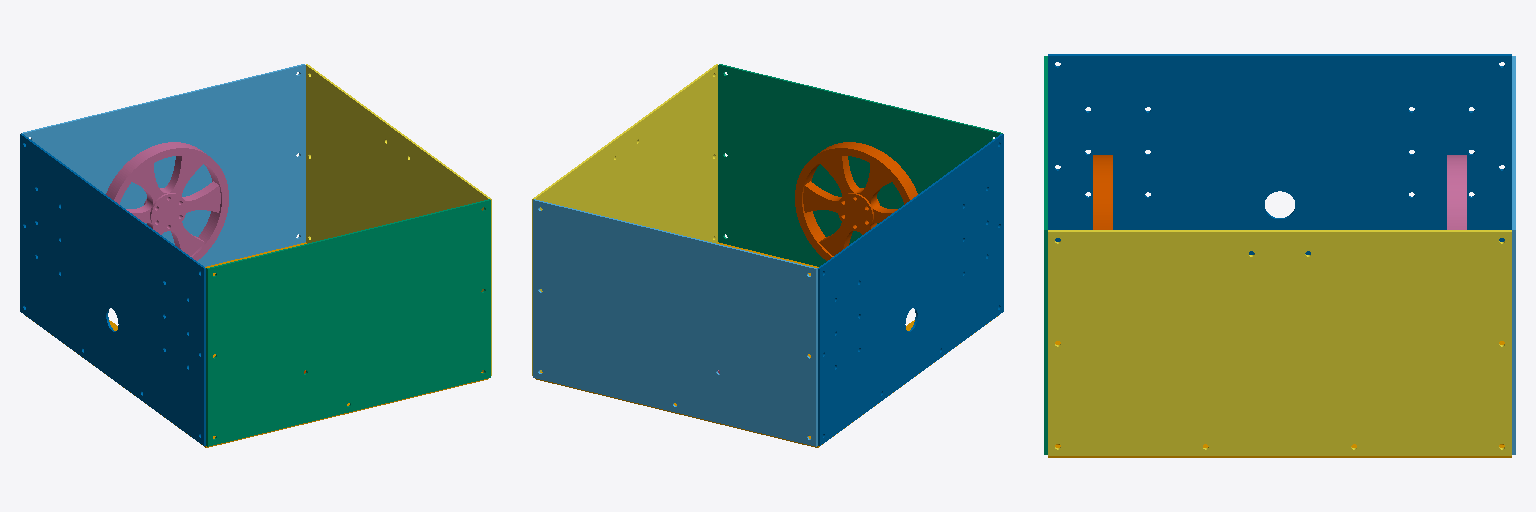
The robot description file, URDF, robot "serbby":
<?xml version="1.0"?>
<robot name="serbby">

    <!-- base links -->
    <link name="base_link">
        <visual>
            <geometry>
                <mesh filename="package://serbby_description/meshes/bottom.stl" scale="0.001 0.001 0.001"/>
            </geometry>
        </visual>
    </link>

    <link name="base_left_side">
        <visual>
            <geometry>
                <mesh filename="package://serbby_description/meshes/left_side.stl" scale="0.001 0.001 0.001"/>
            </geometry>
        </visual>
    </link>

    <link name="base_right_side">
        <visual>
            <geometry>
                <mesh filename="package://serbby_description/meshes/right_side.stl" scale="0.001 0.001 0.001"/>
            </geometry>
        </visual>
    </link>

    <link name="base_front_side">
        <visual>
            <geometry>
                <mesh filename="package://serbby_description/meshes/front_side.stl" scale="0.001 0.001 0.001"/>
            </geometry>
        </visual>
    </link>

    <link name="base_back_side">
        <visual>
            <geometry>
                <mesh filename="package://serbby_description/meshes/back_side.stl" scale="0.001 0.001 0.001"/>
            </geometry>
        </visual>
    </link>
    <!-- base links -->
    <!-- base -->
    <joint name="base_link_to_base_left_side" type="fixed">
        <origin rpy="0 0 0" xyz="0 0 0" />
        <parent link="base_link" />
        <child link="base_left_side" />
    </joint>

    <joint name="base_link_to_base_right_side" type="fixed">
        <origin rpy="0 0 0" xyz="0 0 0" />
        <parent link="base_link" />
        <child link="base_right_side" />
    </joint>

    <joint name="base_link_to_base_front_side" type="fixed">
        <origin rpy="0 0 0" xyz="0 0 0" />
        <parent link="base_link" />
        <child link="base_front_side" />
    </joint>

    <joint name="base_link_to_base_back_side" type="fixed">
        <origin rpy="0 0 0" xyz="0 0 0" />
        <parent link="base_link" />
        <child link="base_back_side" />
    </joint>

    <!-- base -->

    <!-- movable links-->
    <link name="right_wheel">
        <visual>
            <geometry>
                <mesh filename="package://serbby_description/meshes/right_wheel.stl" scale="0.001 0.001 0.001"/>
            </geometry>
        </visual>
    </link>
    <link name="left_wheel">
        <visual>
            <geometry>
                <mesh filename="package://serbby_description/meshes/left_wheel.stl" scale="0.001 0.001 0.001"/>
            </geometry>
        </visual>
    </link>
    <!-- movable links-->





    <!-- movable links-->



    <joint name="base_link_to_right_wheel" type="continuous">
        <origin rpy="0 0 0" xyz="0 0 0.085" />
        <parent link="base_link" />
        <child link="right_wheel" />
        <axis xyz="0 1 0"/>
        <limit effort="100"/>
    </joint>
    <joint name="base_link_to_left_wheel" type="continuous">
        <origin rpy="0 0 0" xyz="0 0 0.085" />
        <parent link="base_link" />
        <child link="left_wheel" />
        <axis xyz="0 1 0"/>
        <limit effort="100"/>
    </joint>

    <!-- movable links-->




</robot>

--- Render facts (derived) ---
3 views of the same robot in one strip: view 1: azimuth 30°, elevation 25°; view 2: azimuth 150°, elevation 25°; view 3: azimuth 270°, elevation 25° (orthographic).
Model serbby with 7 links and 6 joints (2 continuous, 4 fixed), rooted at base_link, posed every joint at zero.
Visible links, largest first — view 1: base_right_side, base_back_side, base_left_side, base_front_side, left_wheel, base_link; view 2: base_left_side, base_back_side, base_right_side, base_front_side, right_wheel, base_link; view 3: base_front_side, base_back_side, base_left_side, base_right_side, right_wheel, left_wheel, base_link.
Link boxes in pixels (bbox=[...]): base_right_side: bbox=[206, 199, 490, 446]; base_back_side: bbox=[20, 134, 205, 445]; base_left_side: bbox=[21, 64, 305, 266]; base_front_side: bbox=[306, 64, 491, 375]; left_wheel: bbox=[106, 142, 228, 260]; base_link: bbox=[26, 242, 488, 447]; base_left_side: bbox=[533, 199, 817, 446]; base_back_side: bbox=[818, 134, 1003, 445]; base_right_side: bbox=[718, 64, 1002, 266]; base_front_side: bbox=[532, 64, 717, 375]; right_wheel: bbox=[795, 142, 917, 260]; base_link: bbox=[535, 242, 997, 447]; base_front_side: bbox=[1048, 230, 1511, 455]; base_back_side: bbox=[1048, 54, 1511, 254]; base_left_side: bbox=[1512, 56, 1515, 454]; base_right_side: bbox=[1044, 56, 1047, 454]; right_wheel: bbox=[1093, 155, 1112, 229]; left_wheel: bbox=[1447, 155, 1466, 229]; base_link: bbox=[1048, 341, 1511, 457].
Size in the robot's own frame: 0.406 by 0.456 by 0.243 metres.
7 mesh visuals loaded from 7 distinct referenced files (7 binary STL).
